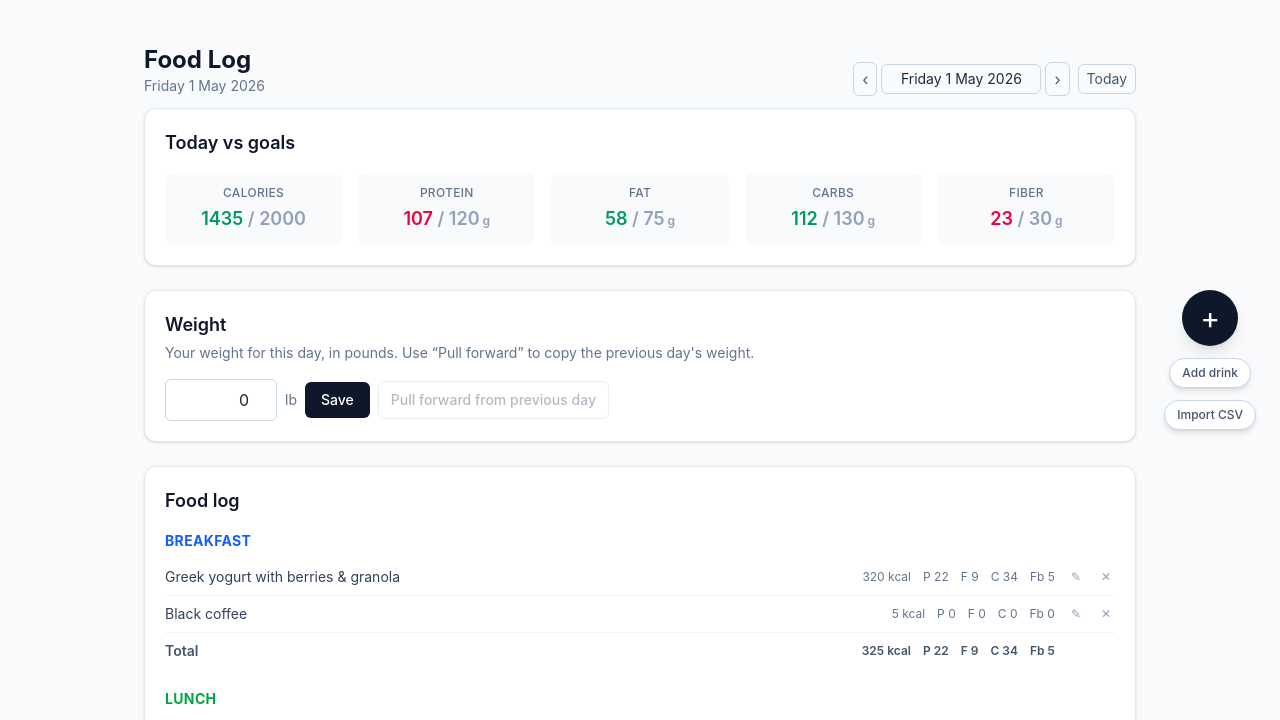
Test: Dashboard › adding and deleting entries › adds an entry via the modal and updates the feed and totals
Step 1. Click the button named "Add food" → click(1210, 318), box [1182, 290, 1238, 346]
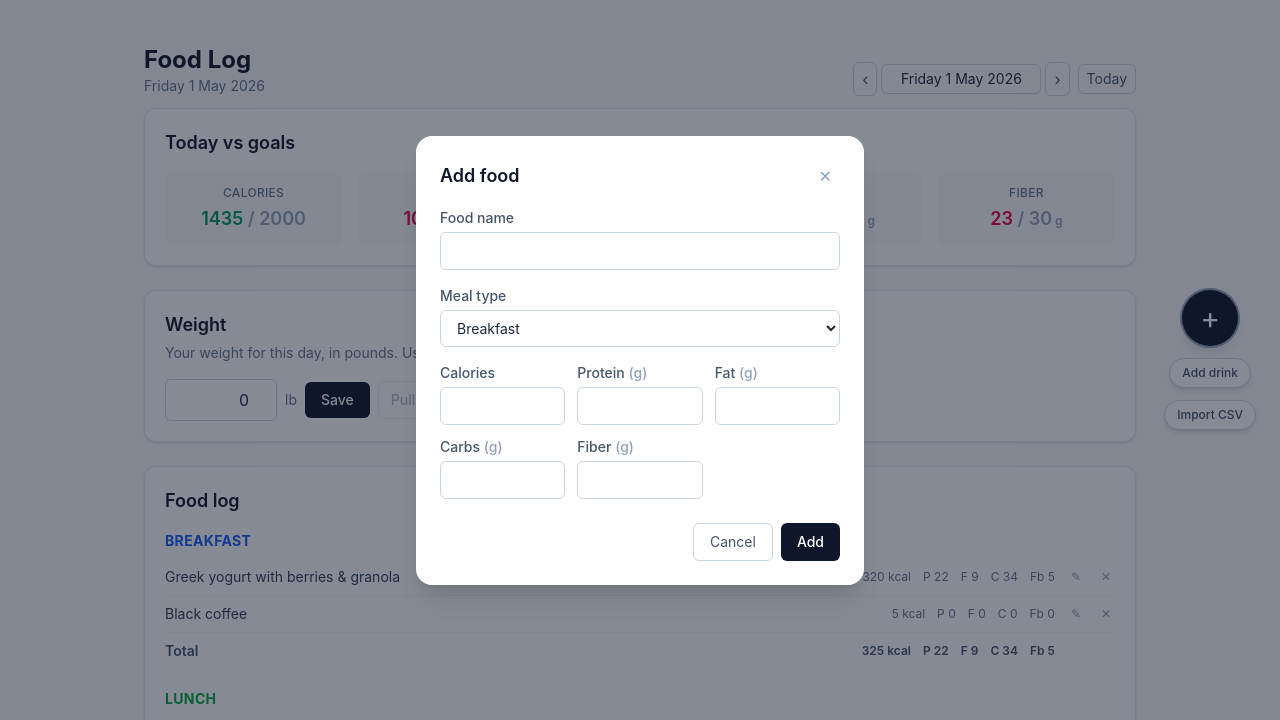
Step 2. Type "Protein shake" into the field labelled "Food name" → (640, 250), box [440, 232, 840, 270]
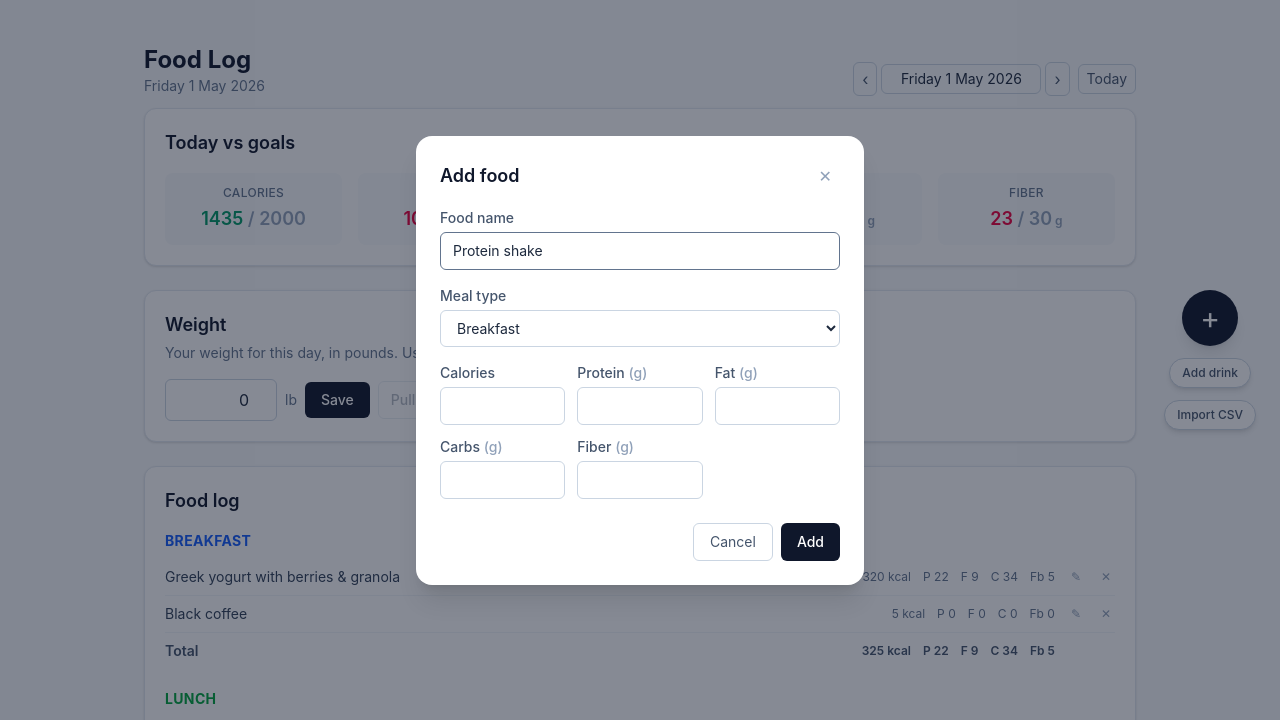
Step 3. Select "Snacks" in the dropdown labelled "Meal type" → (640, 328), box [440, 310, 840, 346]
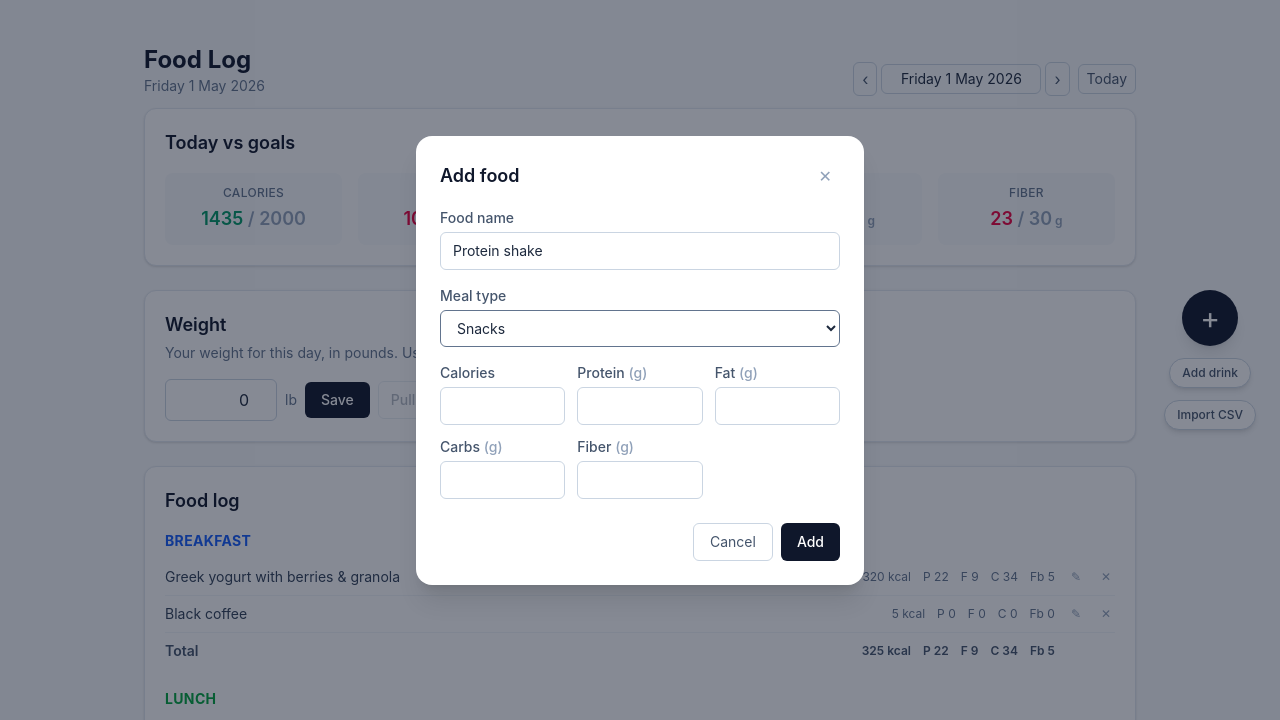
Step 4. Type "200" into the number field labelled "Calories" → (503, 406), box [440, 386, 565, 424]
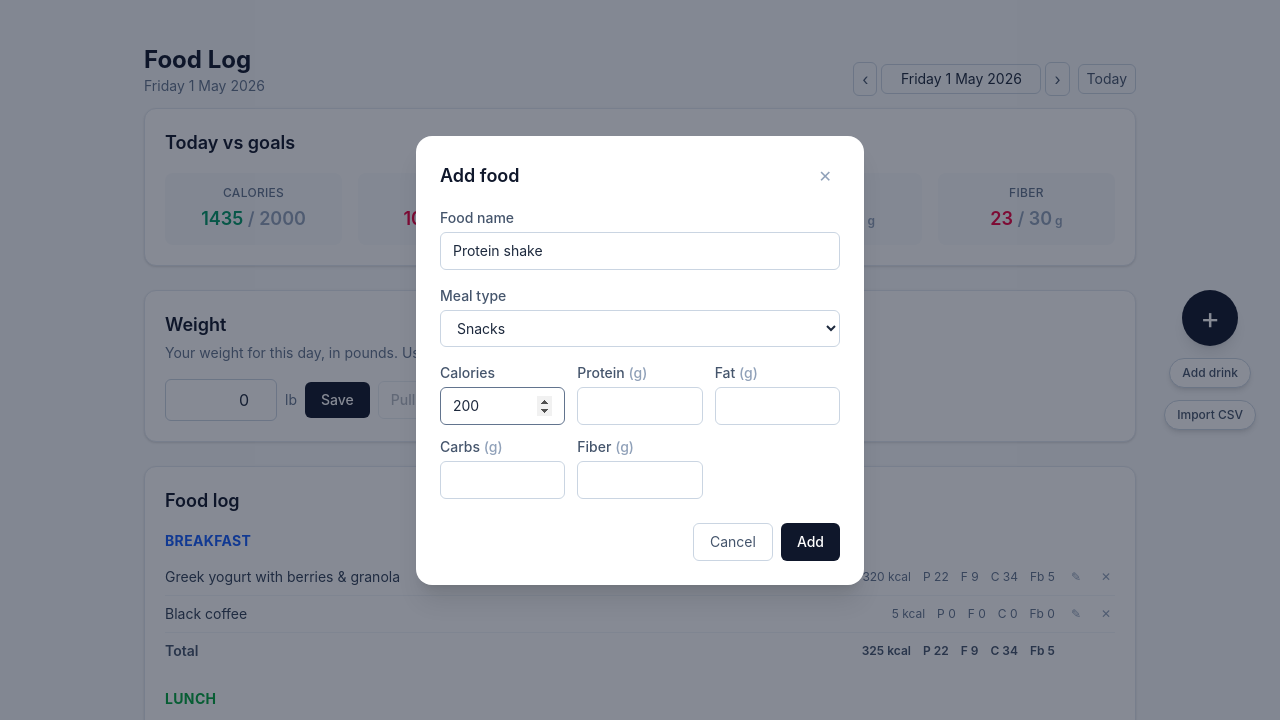
Step 5. Type "30" into the number field labelled "Protein" → (640, 406), box [577, 386, 703, 424]
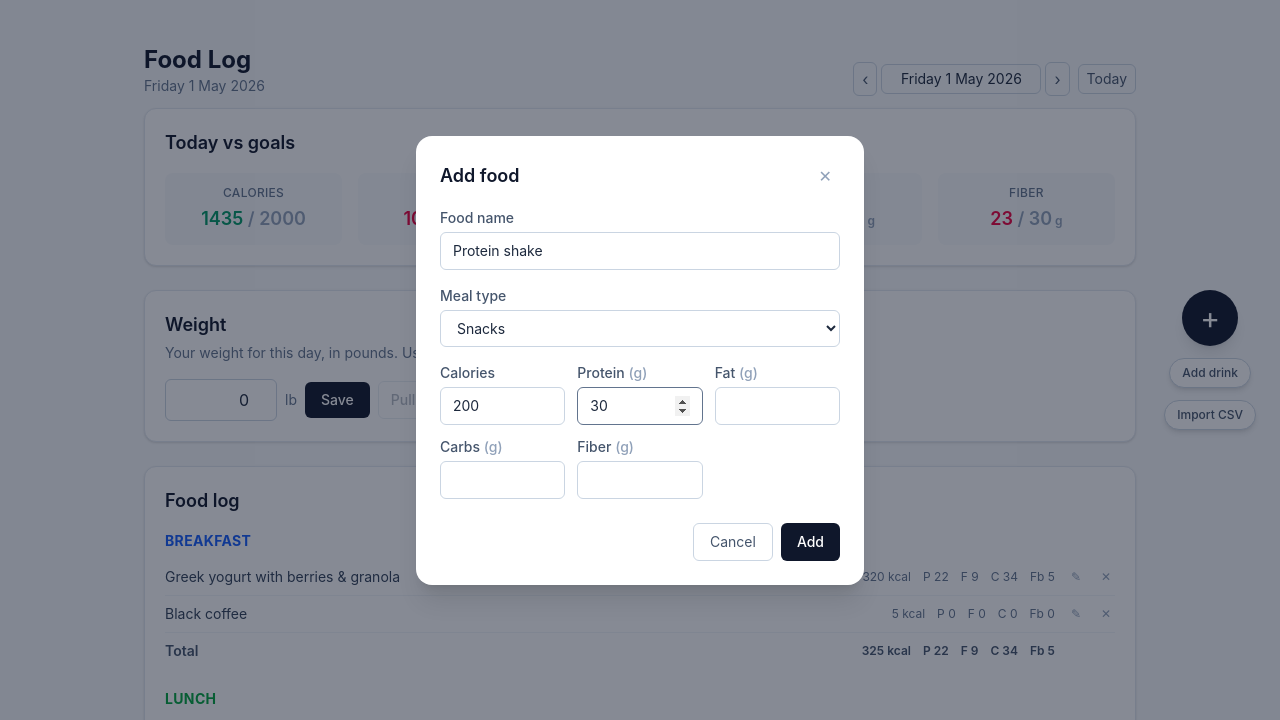
Step 6. Click the button "Add" → click(810, 542), box [781, 522, 840, 560]
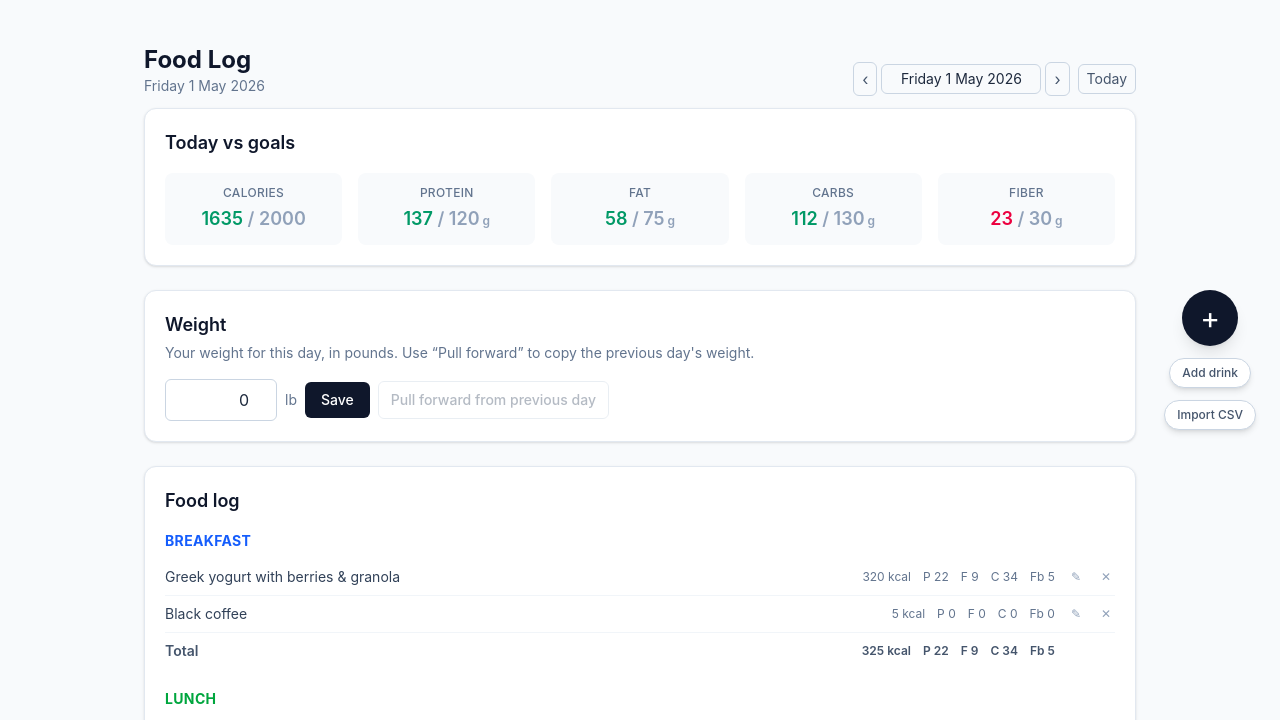
Expected: the text named "Calories consumed" reads "1635", [201, 208, 243, 229]
Expected: the text named "Protein consumed" reads "137", [404, 208, 433, 229]
